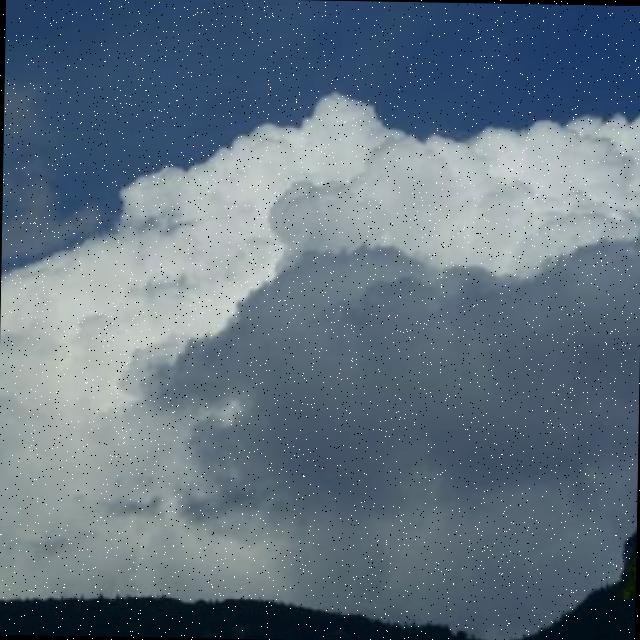Cu: (1, 38, 640, 480)
